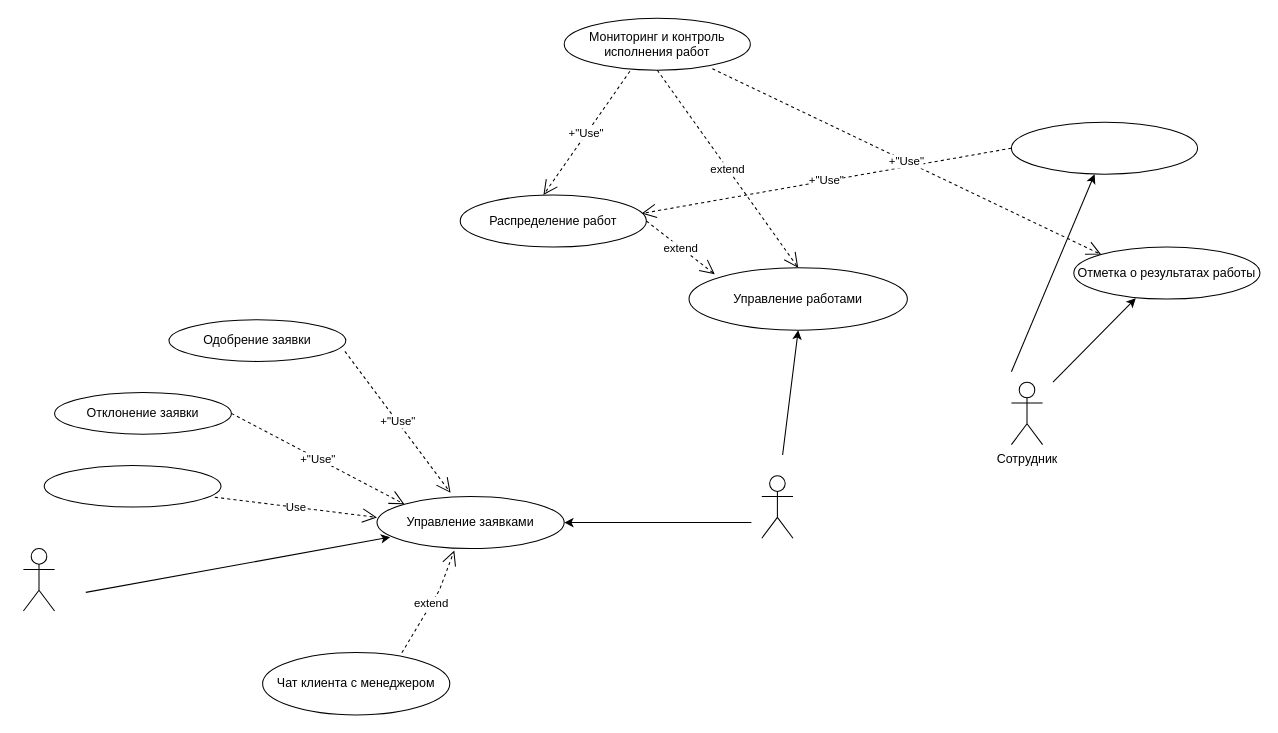
Image size: 1278x733. Some labels were removed from this diagram. Here are the shapes that lost their labels. From the top down, the box of each, then its label:
(1010, 121, 1198, 174): Просмотр перечня заявок
(43, 464, 221, 507): Регистрация заявки
(761, 475, 793, 538): Менеджер
(22, 548, 55, 611): Клиент
